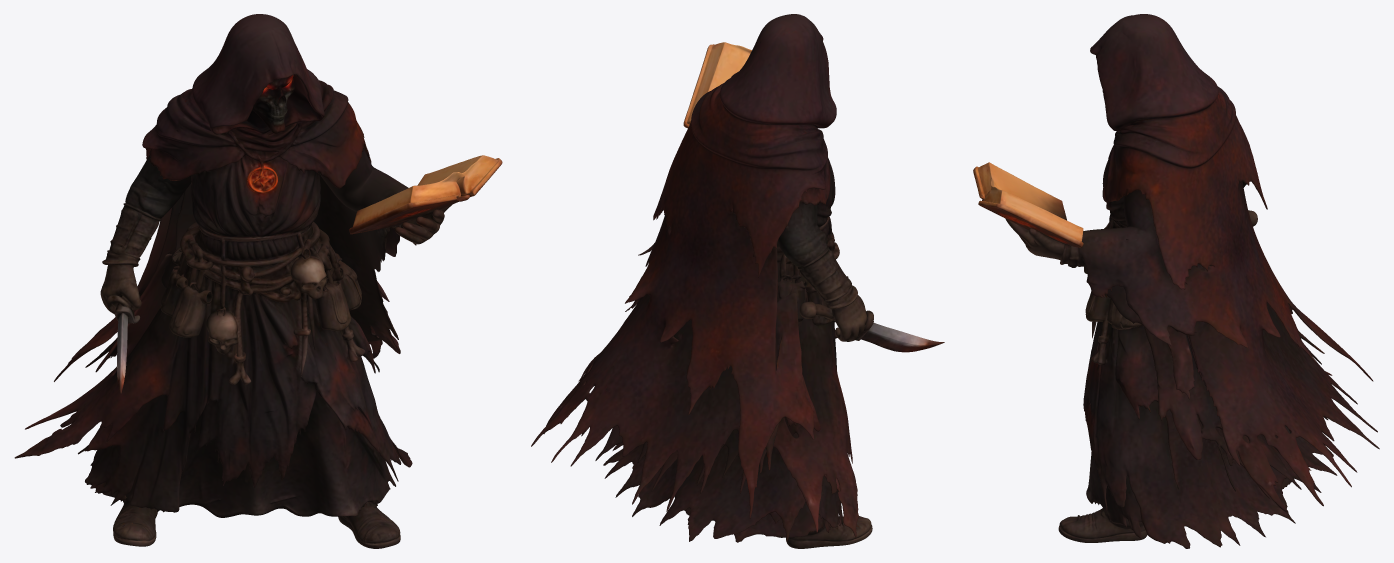
Rendered from enemy_cultist_acolyte_01.glb.
The picture shows the model from 3 angles, left to right: view 1: azimuth 30°, elevation 25°; view 2: azimuth 150°, elevation 25°; view 3: azimuth 270°, elevation 25°; orthographic projection. The views are drawn at different scales.
Parts seen in each view (by area): view 1: material; view 2: material; view 3: material.
Part boxes in pixels (box(x1,y1,x2,y2)): material: box(14, 14, 502, 548); material: box(531, 14, 944, 548); material: box(973, 14, 1379, 548).
Size of the model in its own units: 0.7336 by 1.04 by 0.7983.
1 material, 1 textured.
